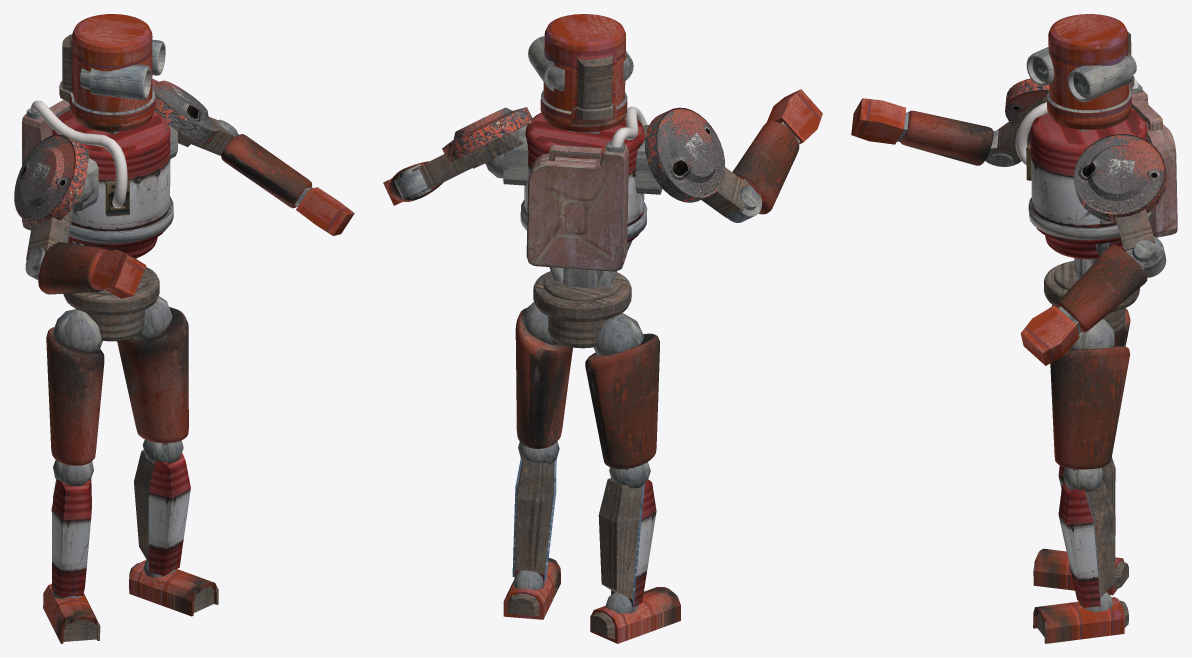
The model's file is Robot 1 pose.fbx.
3 renders of one model, left to right at view 1: azimuth 30°, elevation 25°; view 2: azimuth 150°, elevation 25°; view 3: azimuth 270°, elevation 25°, orthographic. The views are drawn at different scales.
Parts seen in each view (by area): view 1: Cylinder.003, Cylinder.002, Icosphere.001, Icosphere, Icosphere.004, Icosphere.002, Icosphere.003, Cylinder.004, Cylinder.014, Cylinder, Icosphere.005, Cube.009 (+3 smaller); view 2: Cylinder.003, Cylinder.002, Icosphere, Icosphere.004, Icosphere.003, Icosphere.001, Icosphere.002, Cylinder.004, Icosphere.005, Cylinder, Cube.015, Cube.009 (+3 smaller); view 3: Cylinder.003, Cylinder.002, Icosphere.001, Icosphere.005, Icosphere.002, Cylinder.014, Cylinder, Cube.009, Cube.024, Icosphere.004, Cube.017, Cube.015 (+2 smaller).
Part boxes in pixels (bbox=[...]): Cylinder.003: bbox=[22, 99, 177, 258]; Cylinder.002: bbox=[59, 14, 165, 131]; Icosphere.001: bbox=[117, 296, 188, 445]; Icosphere: bbox=[46, 309, 104, 465]; Icosphere.004: bbox=[14, 134, 93, 260]; Icosphere.002: bbox=[134, 439, 190, 577]; Icosphere.003: bbox=[51, 460, 93, 599]; Cylinder.004: bbox=[63, 267, 159, 341]; Cylinder.014: bbox=[216, 119, 312, 208]; Cylinder: bbox=[25, 242, 108, 294]; Icosphere.005: bbox=[152, 79, 234, 155]; Cube.009: bbox=[129, 560, 218, 616]; Cylinder.003: bbox=[503, 106, 662, 271]; Cylinder.002: bbox=[528, 14, 633, 132]; Icosphere: bbox=[585, 313, 660, 470]; Icosphere.004: bbox=[643, 107, 749, 217]; Icosphere.003: bbox=[598, 462, 656, 613]; Icosphere.001: bbox=[515, 302, 572, 448]; Icosphere.002: bbox=[512, 441, 559, 590]; Cylinder.004: bbox=[533, 271, 631, 348]; Icosphere.005: bbox=[411, 107, 532, 191]; Cylinder: bbox=[725, 121, 800, 222]; Cube.015: bbox=[590, 587, 680, 643]; Cube.009: bbox=[503, 558, 560, 619]; Cylinder.003: bbox=[1015, 78, 1177, 259]; Cylinder.002: bbox=[1026, 14, 1136, 129]; Icosphere.001: bbox=[1050, 319, 1130, 470]; Icosphere.005: bbox=[1073, 134, 1167, 251]; Icosphere.002: bbox=[1058, 467, 1115, 612]; Cylinder.014: bbox=[1057, 236, 1166, 333]; Cylinder: bbox=[897, 110, 1016, 166]; Cube.009: bbox=[1033, 597, 1128, 643]; Cube.024: bbox=[1020, 305, 1079, 365]; Icosphere.004: bbox=[991, 78, 1049, 163]; Cube.017: bbox=[851, 98, 906, 144]; Cube.015: bbox=[1033, 548, 1128, 595].
Size of the model in its own units: 817 by 1309 by 670.
